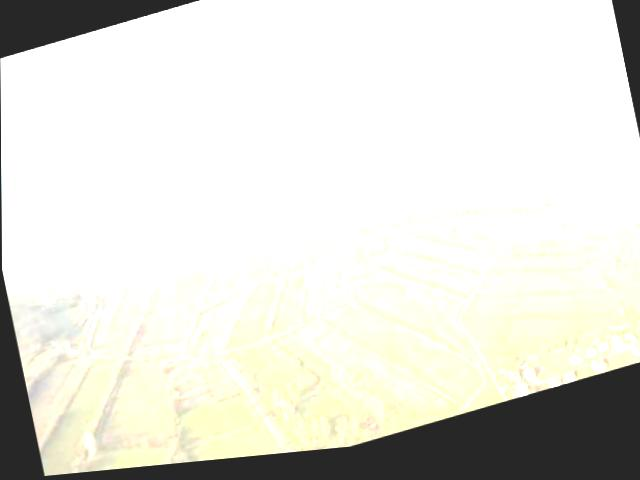iha: (101, 181, 244, 268)
